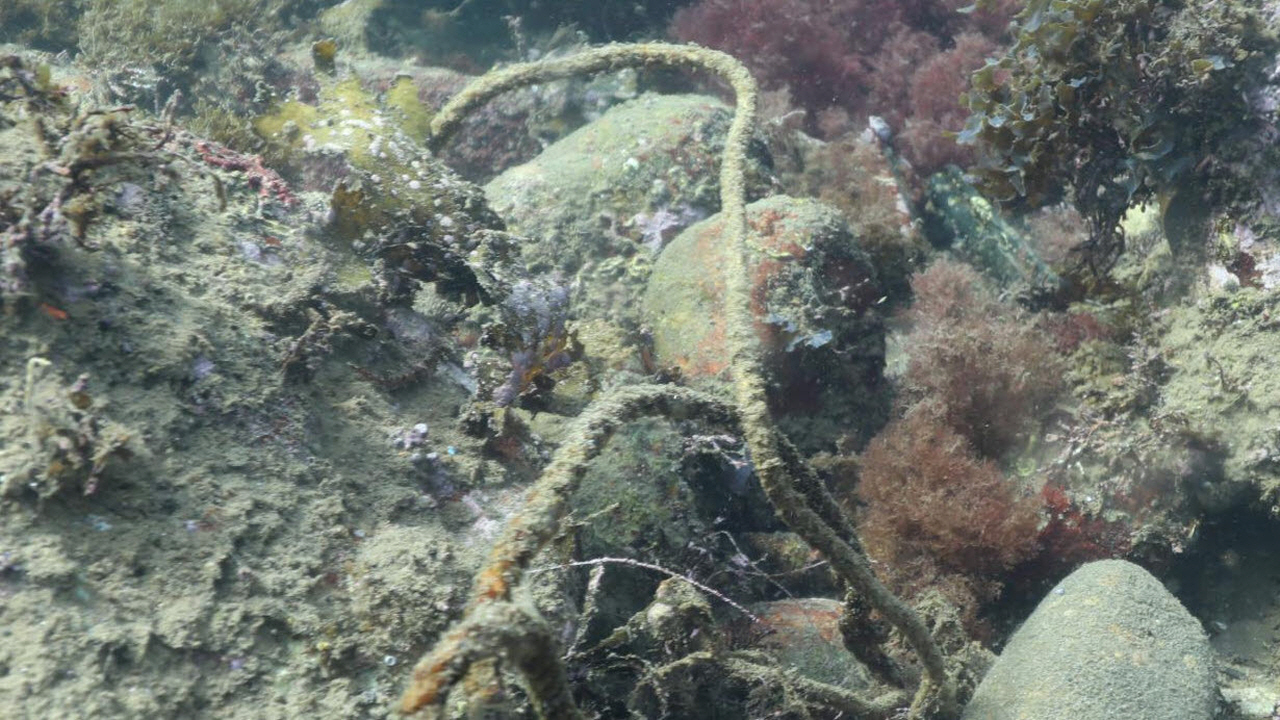bundle of ropes: (381, 34, 951, 720)
